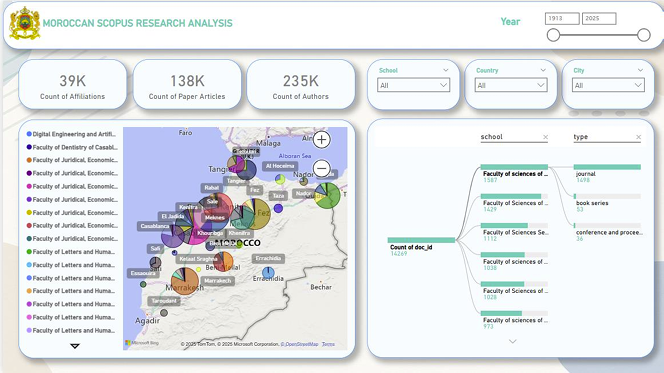

This screenshot's page, from the dashboard's own definition file:
{"tool":"powerbi","page":{"name":"Dashboard1","canvas":[1280,720],"ordinal":0},"visuals":[{"type":"card","fields":{"Values":["Metrics.CountAffiliations"]},"box":[30.2,113.4,210,96.4],"z":0},{"type":"card","fields":{"Values":["Metrics.CountArticles"]},"box":[251.3,113.4,210,96.4],"z":1000},{"type":"card","fields":{"Values":["Metrics.countAuthors"]},"box":[472.4,113.4,210,96.4],"z":2000},{"type":"decompositionTreeVisual","fields":{"Analyze":["CountNonNull(Metadata.doc_id)"],"ExplainBy":["Affiliation.school","Journal.type"]},"box":[704.9,228.7,555.6,463],"z":3000},{"type":"slicer","fields":{"Values":["Affiliation.city"]},"box":[1081,113.4,179.5,96.4],"z":4000},{"type":"slicer","fields":{"Values":["Affiliation.country"]},"box":[893.9,113.4,179.5,96.4],"z":5000},{"type":"slicer","fields":{"Values":["Affiliation.school"]},"box":[704.9,113.4,179.5,98.3],"z":6000},{"type":"map","fields":{"Category":["Affiliation.city"],"Series":["Affiliation.school"],"Size":["CountNonNull(Metadata.doc_id)"]},"box":[29.3,229.3,652.2,461.9],"z":7000},{"type":"textbox","box":[0,2,1280,92],"z":8000},{"type":"image","box":[0,0,84.5,84.5],"z":9000},{"type":"textbox","box":[71.8,26.5,393.1,41.6],"z":10000},{"type":"slicer","fields":{"Values":["Metadata.year"]},"box":[1026,3.3,244,86.7],"z":11000},{"type":"textbox","box":[958,24,68,34.7],"z":12000}]}

Visuals, with their boxes in screenshot pixels (x1, y1, x2, y2), scaled from the page's 1280x720 canvas onto the 664x373 screenshot:
card - Metrics.CountAffiliations: Rect(16, 59, 125, 109)
card - Metrics.CountArticles: Rect(130, 59, 239, 109)
card - Metrics.countAuthors: Rect(245, 59, 354, 109)
decompositionTreeVisual - CountNonNull(Metadata.doc_id) x Affiliation.school: Rect(366, 118, 654, 358)
slicer - Affiliation.city: Rect(561, 59, 654, 109)
slicer - Affiliation.country: Rect(464, 59, 557, 109)
slicer - Affiliation.school: Rect(366, 59, 459, 110)
map - Affiliation.city x Affiliation.school: Rect(15, 119, 354, 358)
textbox: Rect(0, 1, 663, 49)
image: Rect(0, 0, 44, 44)
textbox: Rect(37, 14, 241, 35)
slicer - Metadata.year: Rect(532, 2, 659, 47)
textbox: Rect(497, 12, 532, 30)
